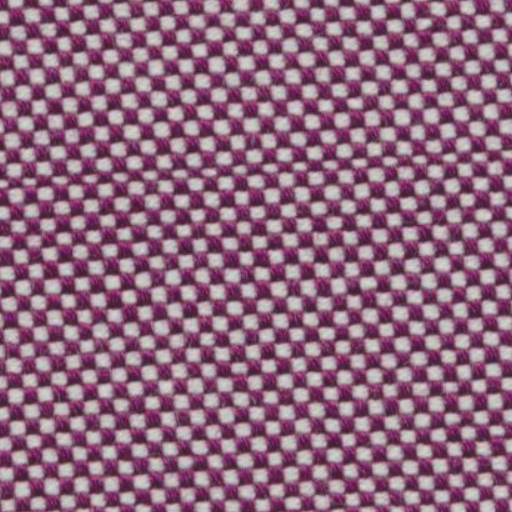TuoSha: (13, 138, 500, 199)
